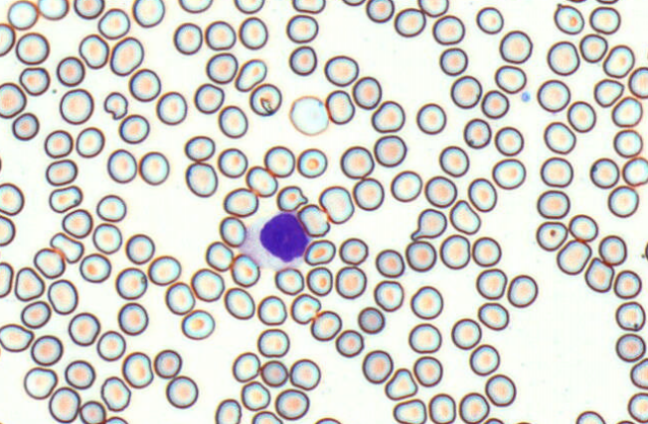MONO: (240, 213, 310, 270)
RBC: (289, 95, 328, 135), (318, 185, 354, 224), (109, 36, 144, 76), (556, 239, 591, 275), (59, 88, 93, 124), (190, 267, 224, 302), (339, 145, 374, 179), (546, 40, 580, 75), (48, 386, 80, 423), (121, 351, 153, 388), (297, 203, 330, 237), (410, 285, 443, 319), (67, 312, 100, 346), (23, 366, 57, 399), (371, 100, 405, 133), (15, 31, 49, 64), (536, 79, 570, 112), (602, 44, 635, 78), (185, 162, 217, 197), (274, 388, 309, 420), (155, 90, 187, 125), (323, 54, 358, 86), (78, 33, 109, 69), (47, 278, 78, 314), (439, 233, 470, 269), (384, 367, 417, 400), (165, 375, 198, 408), (373, 134, 406, 167), (128, 68, 161, 101), (543, 121, 576, 154), (499, 30, 532, 63), (361, 349, 393, 383), (249, 82, 281, 116), (100, 376, 131, 411), (106, 148, 137, 183), (491, 158, 526, 189), (352, 177, 384, 210), (450, 75, 482, 108), (97, 7, 130, 39), (424, 175, 457, 207), (30, 334, 63, 366), (484, 373, 516, 406), (147, 254, 181, 285), (335, 265, 366, 299), (164, 281, 195, 315), (181, 309, 215, 340), (138, 151, 169, 185), (223, 187, 258, 217), (14, 266, 44, 301), (584, 257, 614, 292), (467, 177, 497, 212), (325, 89, 355, 124), (310, 309, 342, 341), (245, 165, 277, 197), (289, 358, 321, 390), (390, 170, 422, 202), (205, 52, 237, 84), (263, 145, 295, 177), (115, 267, 147, 299), (611, 95, 643, 127), (607, 185, 639, 217), (535, 220, 568, 251), (117, 302, 148, 335), (408, 322, 441, 353), (540, 156, 573, 187), (230, 253, 260, 287), (218, 104, 248, 138), (536, 189, 570, 219), (224, 287, 255, 319), (193, 82, 224, 114), (450, 317, 481, 349), (79, 252, 111, 283), (405, 240, 436, 272), (475, 268, 507, 299), (33, 247, 65, 278), (469, 343, 500, 375), (438, 145, 469, 177), (238, 16, 268, 49), (507, 274, 537, 307), (432, 14, 465, 44), (352, 75, 381, 109), (0, 81, 26, 118), (290, 293, 321, 324), (373, 280, 404, 311), (296, 147, 327, 178), (458, 392, 489, 423), (553, 3, 584, 34), (412, 355, 442, 387), (393, 7, 425, 37), (204, 20, 236, 50), (566, 100, 596, 132), (92, 222, 122, 254), (416, 102, 446, 134), (0, 323, 33, 352), (48, 185, 82, 213), (96, 330, 126, 361), (217, 147, 247, 178), (64, 359, 95, 389), (7, 0, 38, 30), (61, 208, 92, 238), (118, 113, 149, 143), (471, 236, 501, 267), (589, 157, 619, 188), (173, 22, 202, 54), (494, 64, 526, 93), (257, 328, 289, 357), (477, 301, 509, 330), (286, 14, 318, 43), (615, 301, 645, 331), (240, 380, 270, 410), (257, 295, 287, 325), (613, 128, 643, 158), (231, 351, 260, 382), (75, 126, 104, 157), (56, 55, 85, 86), (19, 66, 50, 95), (125, 233, 154, 264), (598, 234, 627, 265), (45, 158, 77, 186), (579, 33, 608, 63), (274, 266, 304, 295), (375, 248, 404, 278), (43, 129, 73, 158), (494, 126, 523, 156), (615, 333, 645, 362), (613, 269, 642, 299), (568, 213, 598, 242), (288, 45, 317, 75), (205, 240, 233, 271), (20, 300, 51, 328), (428, 392, 456, 423), (463, 117, 491, 148), (589, 6, 620, 34), (132, 0, 164, 27), (392, 398, 426, 423), (153, 349, 182, 378), (480, 89, 509, 118), (338, 237, 368, 265), (96, 194, 126, 222), (219, 216, 246, 247), (304, 238, 335, 265), (335, 329, 364, 357), (439, 47, 468, 75), (306, 266, 333, 296), (184, 135, 215, 161), (0, 182, 24, 215), (357, 306, 385, 334), (11, 112, 39, 140), (260, 359, 288, 387), (475, 6, 503, 34), (622, 156, 647, 186), (214, 398, 241, 423), (365, 0, 394, 22), (79, 400, 106, 423), (627, 392, 647, 423), (37, 0, 68, 20), (628, 66, 647, 98), (73, 0, 104, 19), (630, 357, 647, 389), (417, 0, 448, 17), (0, 22, 15, 56), (0, 214, 15, 246), (0, 261, 13, 297), (178, 0, 212, 13), (291, 0, 325, 13), (233, 0, 264, 14), (251, 410, 282, 423), (575, 410, 605, 423), (104, 415, 128, 423), (314, 416, 341, 423), (341, 0, 365, 6), (483, 417, 504, 423), (615, 419, 635, 424), (643, 240, 648, 260), (595, 0, 619, 4), (514, 420, 532, 424), (565, 0, 587, 3)
Schistocyte: (409, 208, 448, 242), (449, 198, 484, 235), (235, 58, 268, 92), (50, 234, 84, 265), (594, 78, 624, 108), (275, 186, 308, 211), (104, 92, 130, 121)
